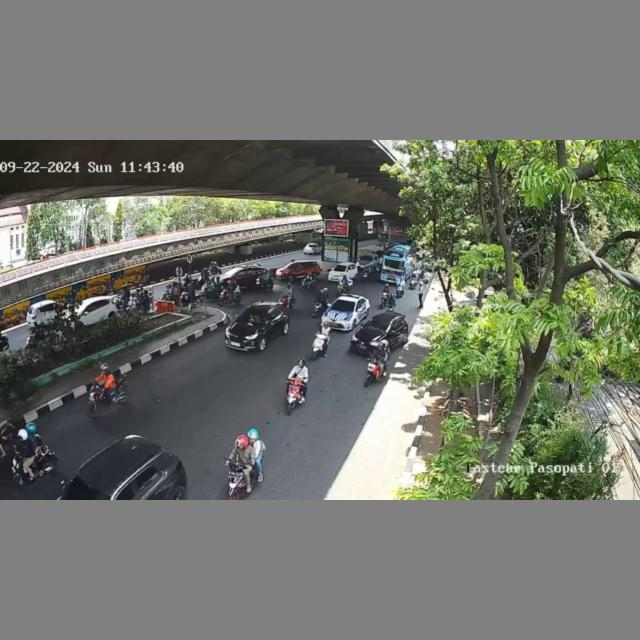windshield: (237, 306, 268, 326), (365, 317, 393, 332), (332, 299, 355, 311), (333, 265, 348, 272)
